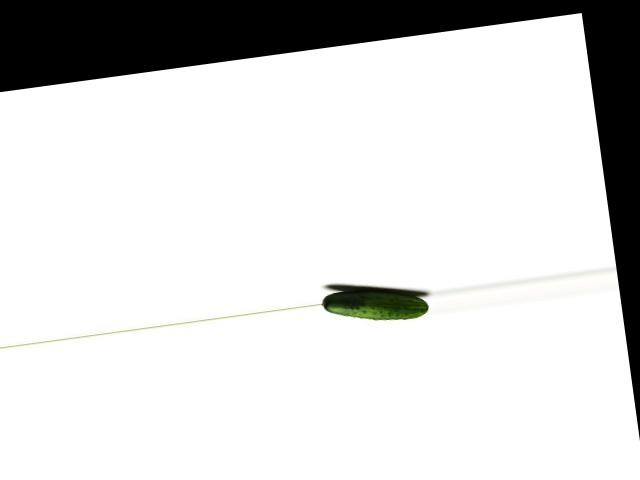cucumber: (319, 279, 429, 330)
